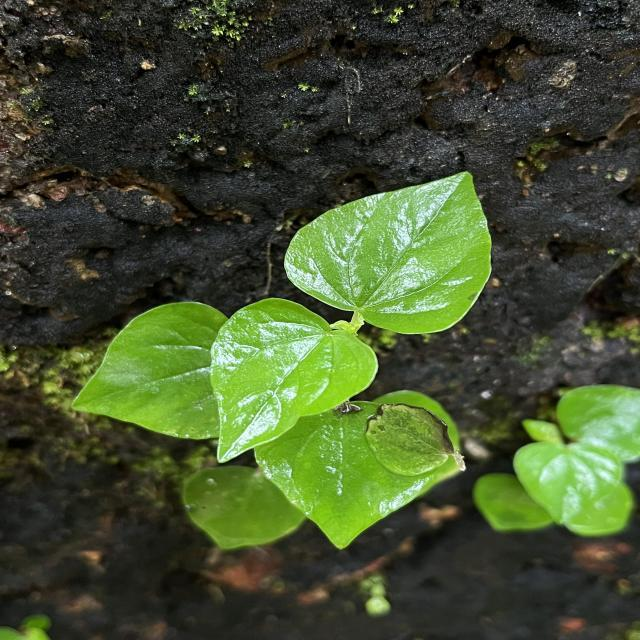Peperomia pellucida: (278, 166, 497, 339)
